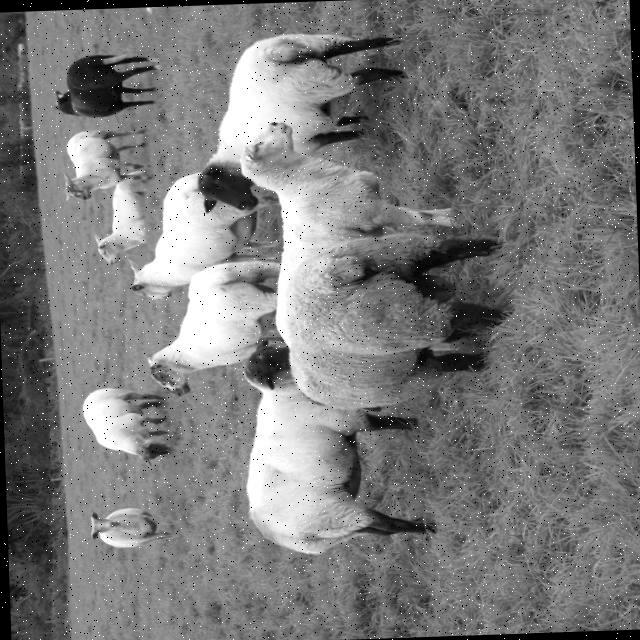sheep: (243, 360, 435, 550)
